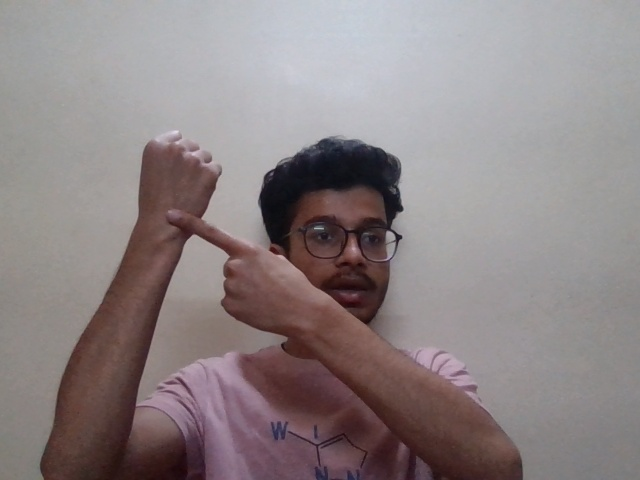time: (132, 124, 303, 348)
